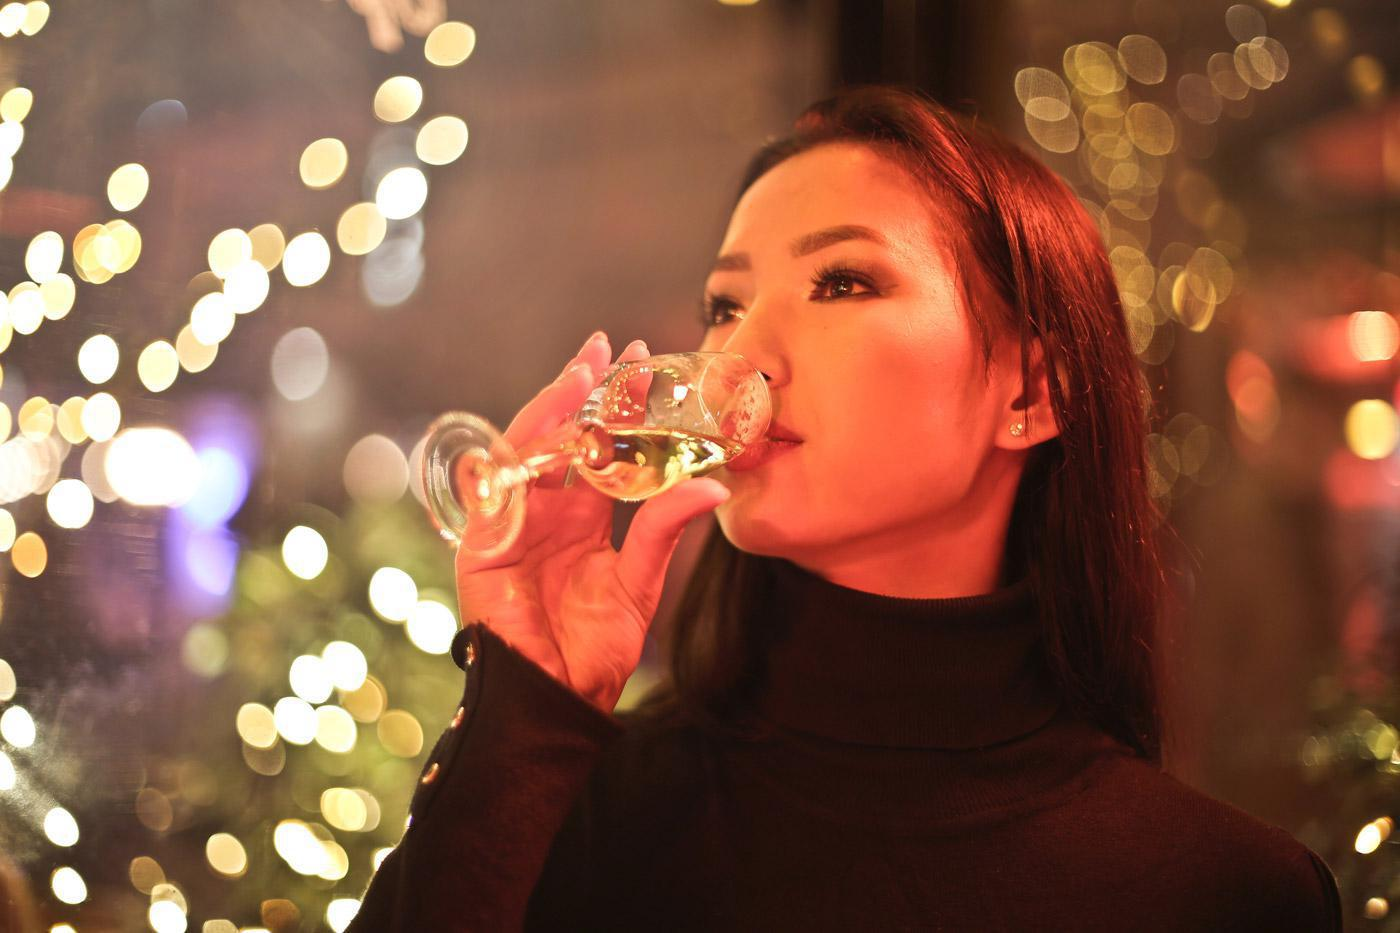Drunk: (689, 150, 973, 543)
